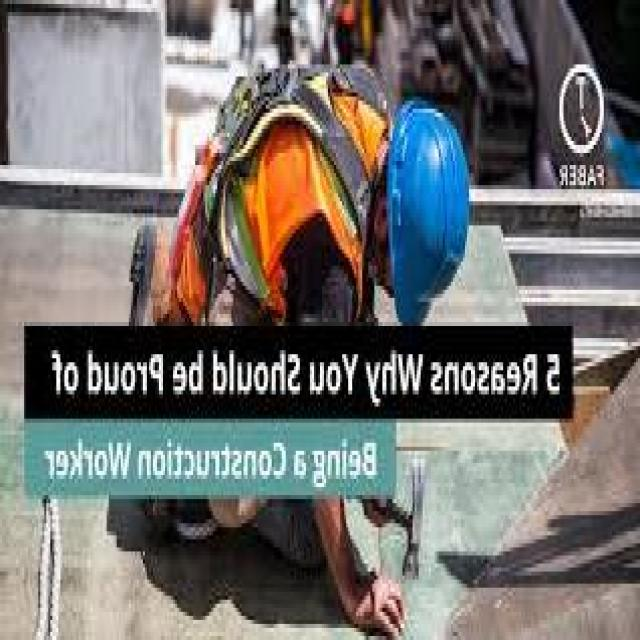Reflective-Jacket: (171, 56, 391, 334)
Safety-Helmet: (382, 100, 473, 329)
